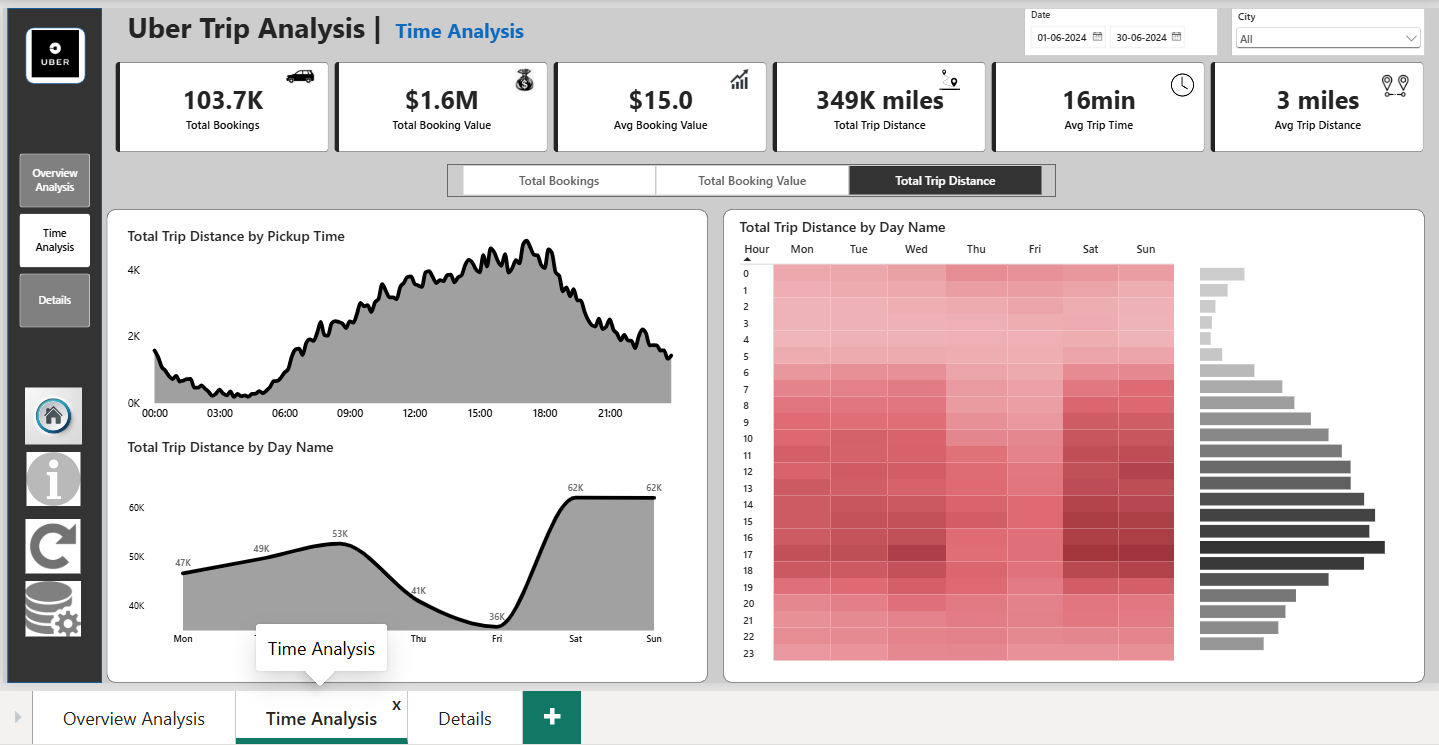

What the dashboard file says about the page in this screenshot:
{"tool":"powerbi","page":{"name":"Time Analysis","canvas":[1915,900],"ordinal":1},"visuals":[{"type":"shape","box":[138,268,802,632],"z":0},{"type":"shape","box":[6,0,126,900],"z":1000},{"type":"textbox","box":[166,0,592,80],"z":2000},{"type":"cardVisual","fields":{"Data":["Trip Details.Total Bookings","Trip Details.Total Booking Amount","Trip Details.Avg Booking Amount","Trip Details.Total Trip Distance","Trip Details.Avg Trip Time","Trip Details.Avg Trip Distance"]},"box":[150,72,1746,120],"z":3000},{"type":"image","box":[670,80,50.8,31.3],"z":4000},{"type":"image","box":[1234,80,56.7,29.3],"z":5000},{"type":"image","box":[1830,86,52.8,35.2],"z":6000},{"type":"image","box":[1548,86,48.8,33.2],"z":7000},{"type":"image","box":[966,76,31.3,37.1],"z":8000},{"type":"slicer","fields":{"Values":["Dynamic Measure.Dynamic Measure"]},"box":[592,208,812,44],"z":9000},{"type":"image","box":[374,68,44.9,44.9],"z":10000},{"type":"slicer","fields":{"Values":["Calendar Table.Date"]},"box":[1362,0,258,64],"z":11000},{"type":"slicer","fields":{"Values":["Location Table.City"]},"box":[1638,0,258,64],"z":12000},{"type":"areaChart","fields":{"Category":["Trip Details.Pickup Hour(HH MM SS) (bins)"],"Y":["Trip Details.Total Trip Distance Measure"]},"box":[150,282,774,289],"z":13000},{"type":"cardVisual","fields":{"Data":["Trip Details.Title for Pickup Time"]},"box":[150,282,422,42],"z":14000},{"type":"areaChart","fields":{"Category":["Calendar Table.Day Name"],"Y":["Trip Details.Total Trip Distance Measure"]},"box":[152,610,774,260],"z":15000},{"type":"cardVisual","fields":{"Data":["Trip Details.Title for by Day Name"]},"box":[150,566,320,36],"z":16000},{"type":"shape","box":[960,268,936,632],"z":17000},{"type":"pivotTable","fields":{"Columns":["Calendar Table.Day Name"],"Rows":["Trip Details.Pickup Hour"],"Values":["Trip Details.Total Trip Distance Measure"]},"box":[966,294,614,600],"z":18000},{"type":"barChart","fields":{"Category":["Trip Details.Pickup Hour"],"Y":["Trip Details.Total Trip Distance Measure"]},"box":[1580,324,302,570],"z":19000},{"type":"cardVisual","fields":{"Data":["Trip Details.Title for by Day Name"]},"box":[966,274,422,34],"z":20000},{"type":"pageNavigator","box":[22,194,94,232],"z":21000},{"type":"group","id":"g1","title":"Group 1","box":[26,26,87,75],"z":22000},{"type":"image","box":[20,506,94,76],"z":23000},{"type":"image","box":[24,592,86,72],"z":24000},{"type":"image","box":[30,678,73,79],"z":25000},{"type":"image","box":[30,754,74,94],"z":26000},{"type":"shape","box":[30,26,80,75],"z":31000,"group":"g1"},{"type":"image","box":[26,26,87,70],"z":32000,"group":"g1"}]}

Visuals, with their boxes on the page's 1915x900 design canvas (x1, y1, x2, y2). These are canvas units, not pixel positions in the 1439x745 screenshot, which may show the page scaled, cropped or inside an application window:
shape: <box>138,268,940,900</box>
shape: <box>6,0,132,900</box>
textbox: <box>166,0,758,80</box>
cardVisual - Trip Details.Total Bookings x Trip Details.Total Booking Amount: <box>150,72,1896,192</box>
image: <box>670,80,721,111</box>
image: <box>1234,80,1291,109</box>
image: <box>1830,86,1883,121</box>
image: <box>1548,86,1597,119</box>
image: <box>966,76,997,113</box>
slicer - Dynamic Measure.Dynamic Measure: <box>592,208,1404,252</box>
image: <box>374,68,419,113</box>
slicer - Calendar Table.Date: <box>1362,0,1620,64</box>
slicer - Location Table.City: <box>1638,0,1896,64</box>
areaChart - Trip Details.Pickup Hour(HH MM SS) (bins) x Trip Details.Total Trip Distance Measure: <box>150,282,924,571</box>
cardVisual - Trip Details.Title for Pickup Time: <box>150,282,572,324</box>
areaChart - Calendar Table.Day Name x Trip Details.Total Trip Distance Measure: <box>152,610,926,870</box>
cardVisual - Trip Details.Title for by Day Name: <box>150,566,470,602</box>
shape: <box>960,268,1896,900</box>
pivotTable - Calendar Table.Day Name x Trip Details.Pickup Hour: <box>966,294,1580,894</box>
barChart - Trip Details.Pickup Hour x Trip Details.Total Trip Distance Measure: <box>1580,324,1882,894</box>
cardVisual - Trip Details.Title for by Day Name: <box>966,274,1388,308</box>
pageNavigator: <box>22,194,116,426</box>
"Group 1" group: <box>26,26,113,101</box>
image: <box>20,506,114,582</box>
image: <box>24,592,110,664</box>
image: <box>30,678,103,757</box>
image: <box>30,754,104,848</box>
shape: <box>30,26,110,101</box>
image: <box>26,26,113,96</box>
